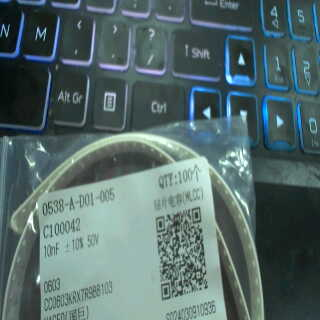10nF: (41, 242, 63, 259)
